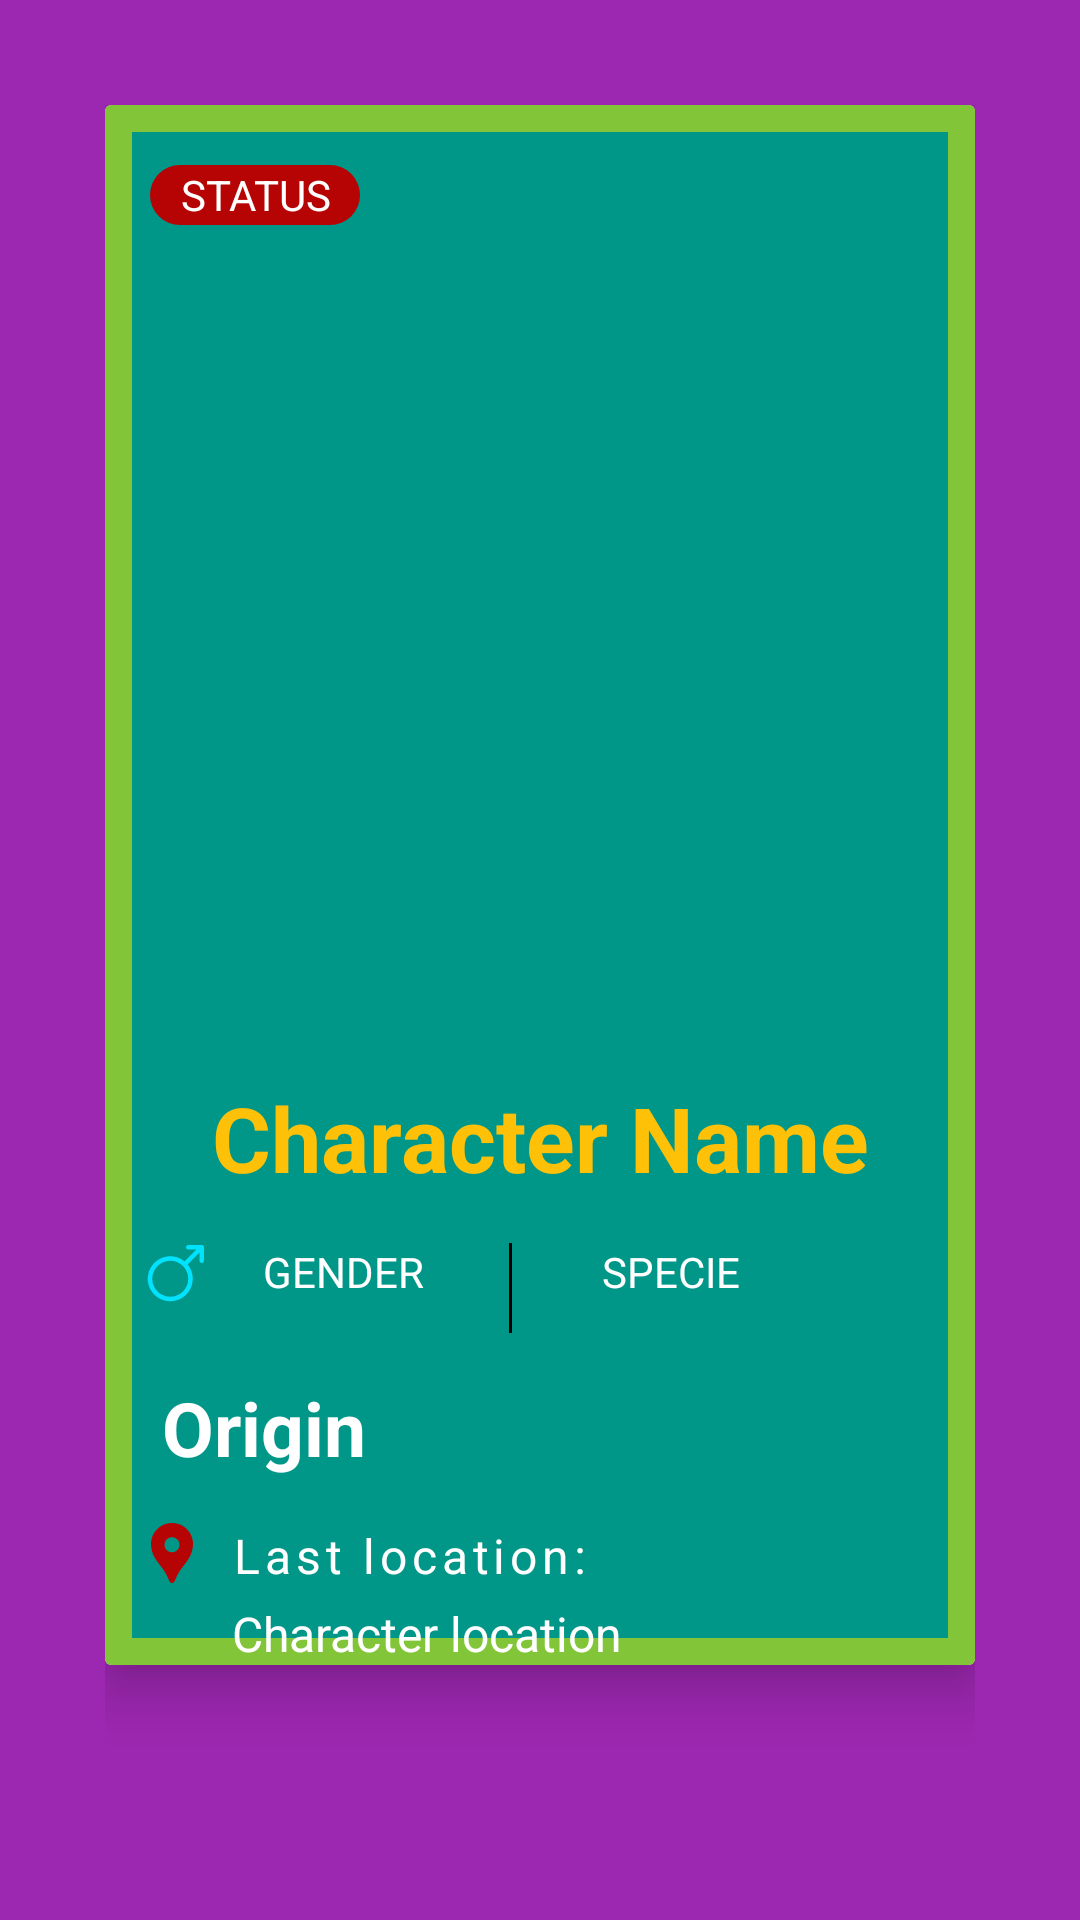

Locate icon controls on the screen. Image size 1080px x 1920px, boxes as detection(x1, y1, x2, y2).
location view: detection(151, 1523, 193, 1583)
